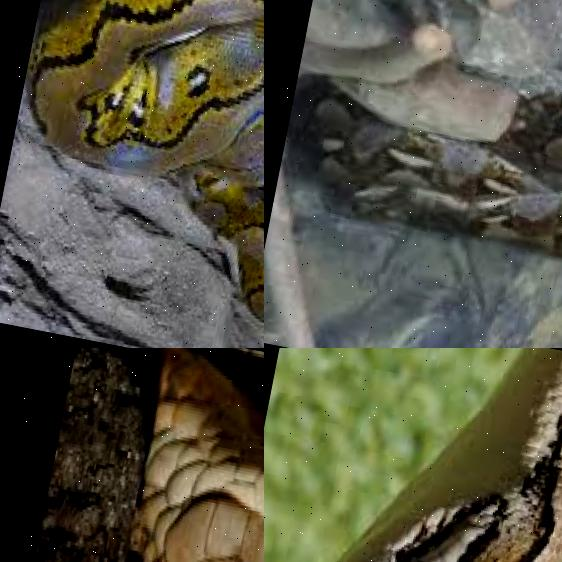snake: (0, 0, 264, 348), (271, 16, 562, 302), (264, 348, 562, 562), (92, 348, 264, 562)
